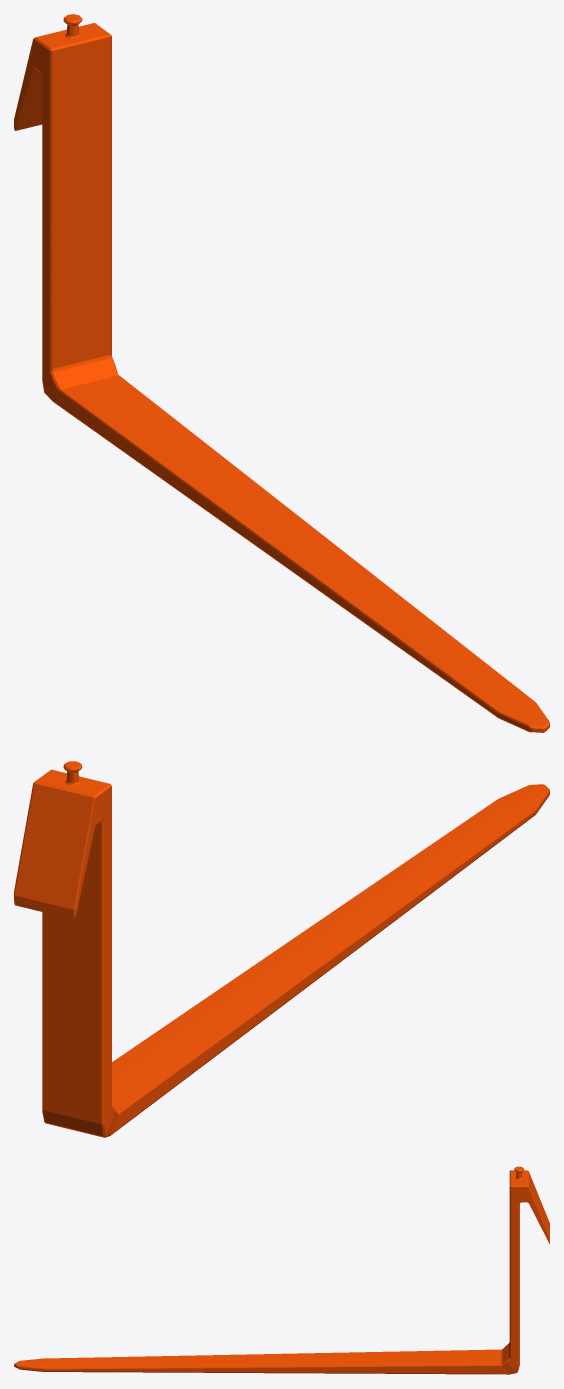
Rendered from fork.glb.
The picture shows the model from 3 angles, top to bottom: view 1: azimuth 30°, elevation 25°; view 2: azimuth 150°, elevation 25°; view 3: azimuth 270°, elevation 25°; orthographic projection. The views are drawn at different scales.
Parts seen in each view (by area): view 1: FORK; view 2: FORK; view 3: FORK.
Part boxes in pixels (bbox=[...]): FORK: bbox=[14, 14, 549, 732]; FORK: bbox=[14, 761, 549, 1137]; FORK: bbox=[14, 1166, 549, 1374].
Bounding box in the file's own units: 0.1006 × 0.5742 × 1.4.
Materials: 1 (1 with a texture image).
